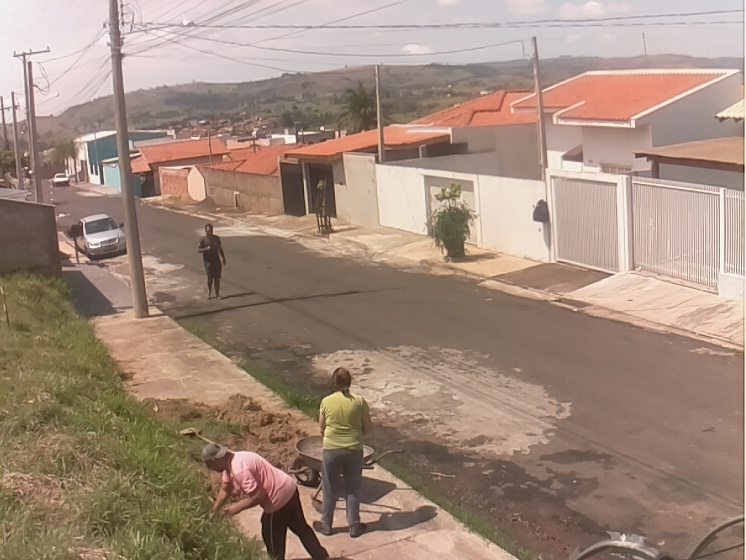person: (201, 443, 331, 560), (310, 367, 371, 537), (197, 223, 227, 300)
